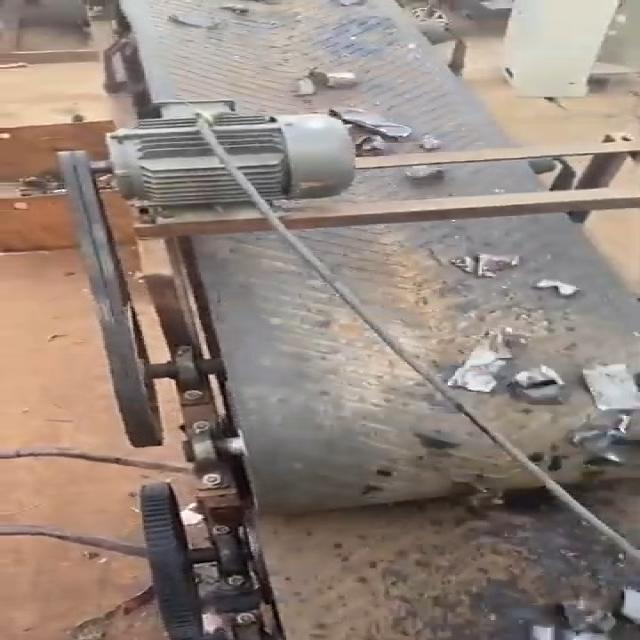Convoyeur: (106, 0, 640, 507)
